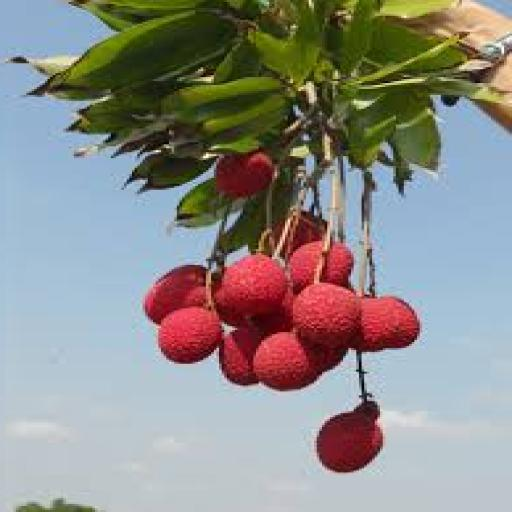lychee: (292, 283, 360, 347), (316, 406, 381, 472), (221, 254, 286, 316), (253, 333, 318, 391), (142, 265, 204, 324), (351, 297, 418, 351), (158, 307, 220, 363), (287, 242, 352, 290), (213, 151, 273, 197), (219, 327, 260, 385), (250, 289, 294, 336), (279, 212, 326, 256), (213, 285, 247, 326), (311, 346, 347, 373)
